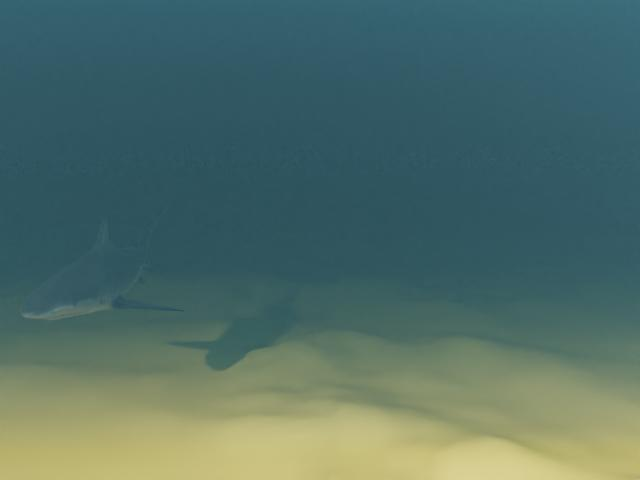Carribean Shark.001: (20, 199, 185, 320)
